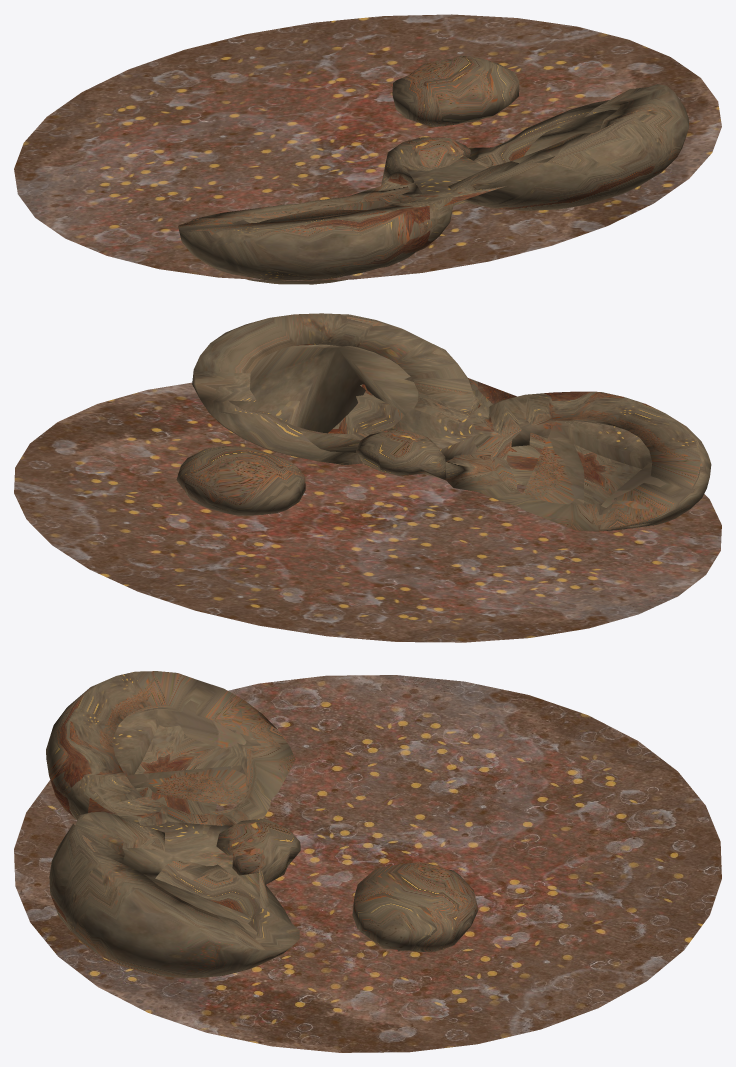
Rendered from meatballs.gltf.
3 renders of one model, top to bottom at view 1: azimuth 30°, elevation 25°; view 2: azimuth 150°, elevation 25°; view 3: azimuth 270°, elevation 25°, orthographic. The views are drawn at different scales.
Parts seen in each view (by area): view 1: Sauce, Meatballs, Meatballs_Coarse; view 2: Sauce, Meatballs, Meatballs_Coarse; view 3: Sauce, Meatballs, Meatballs_Coarse.
Boxes of the visible parts, x1,y1,x2,y2 form: Sauce: (14,14,721,281); Meatballs: (178,55,688,284); Meatballs_Coarse: (193,110,616,224); Sauce: (14,382,721,642); Meatballs: (176,313,711,531); Meatballs_Coarse: (228,344,665,525); Sauce: (14,675,721,1052); Meatballs: (46,671,478,978); Meatballs_Coarse: (88,700,441,951).
Bounding box in the file's own units: 0.48 × 0.0754 × 0.38.
2 materials, 2 textured.
